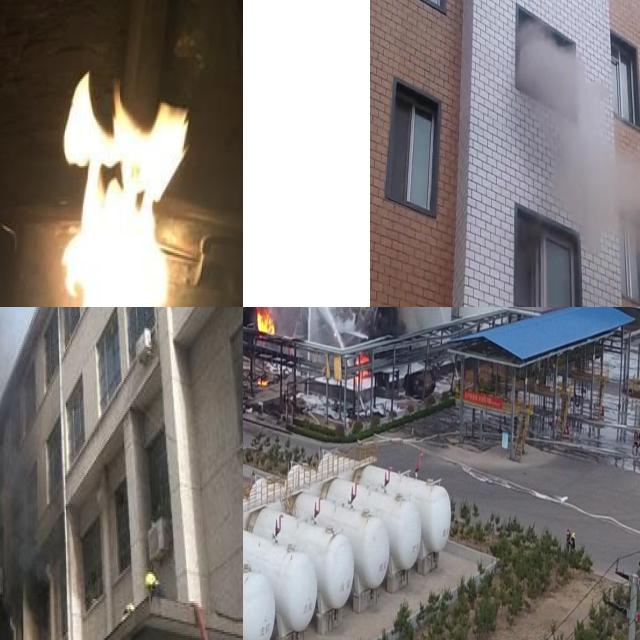fire: (57, 62, 186, 307), (243, 307, 278, 338), (356, 350, 370, 379), (257, 374, 267, 388)
smoke: (514, 25, 640, 252)
